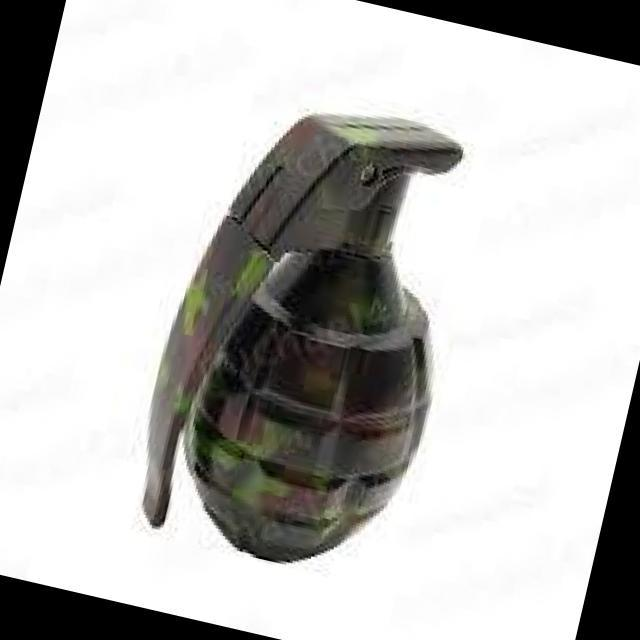grenade: (120, 65, 498, 598)
